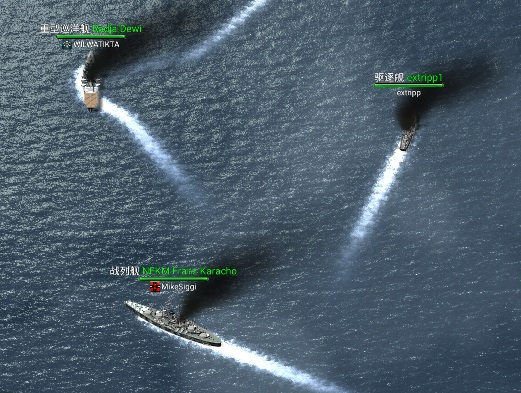ship: (124, 298, 223, 348), (82, 48, 104, 115), (398, 106, 420, 154)
